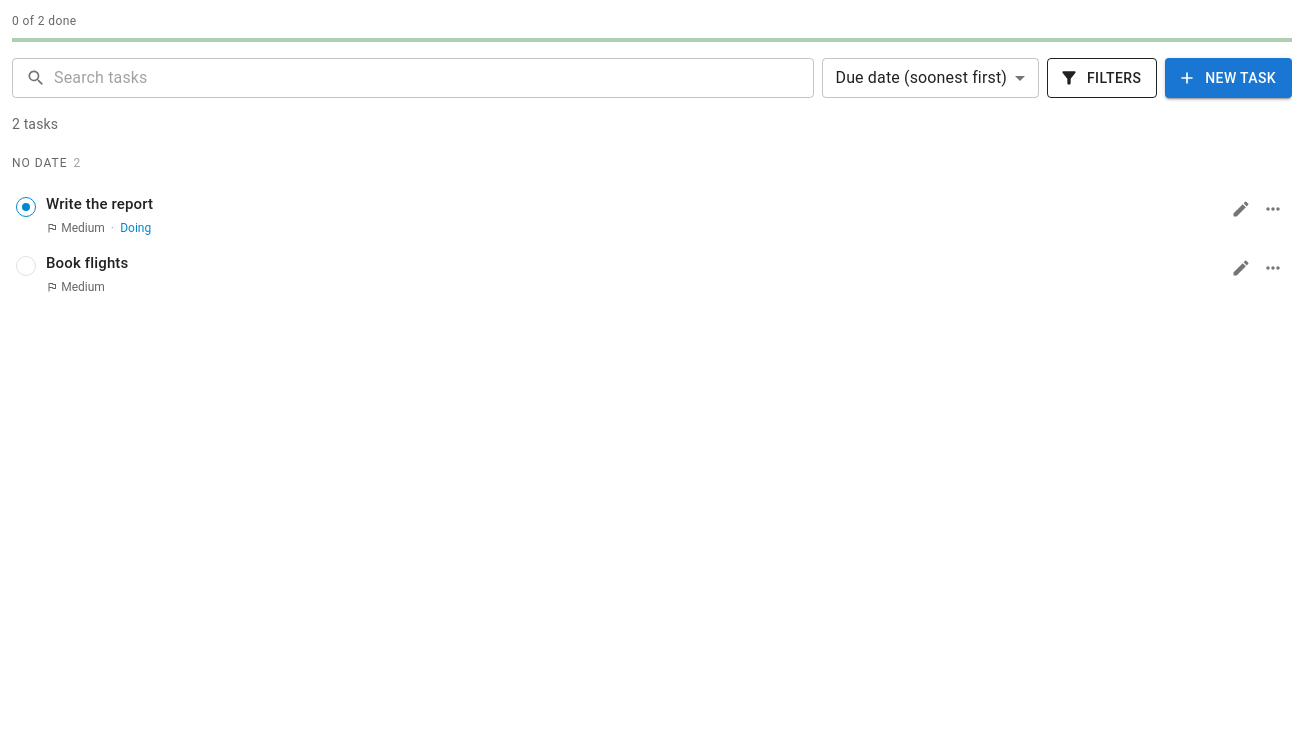
Test case: TaskDashboard › filters by status from the filter panel
What coordinates should you click on to do the following:
click the button "Filters"
I would click on:
 (1102, 78)
Its box is [1047, 58, 1157, 98].
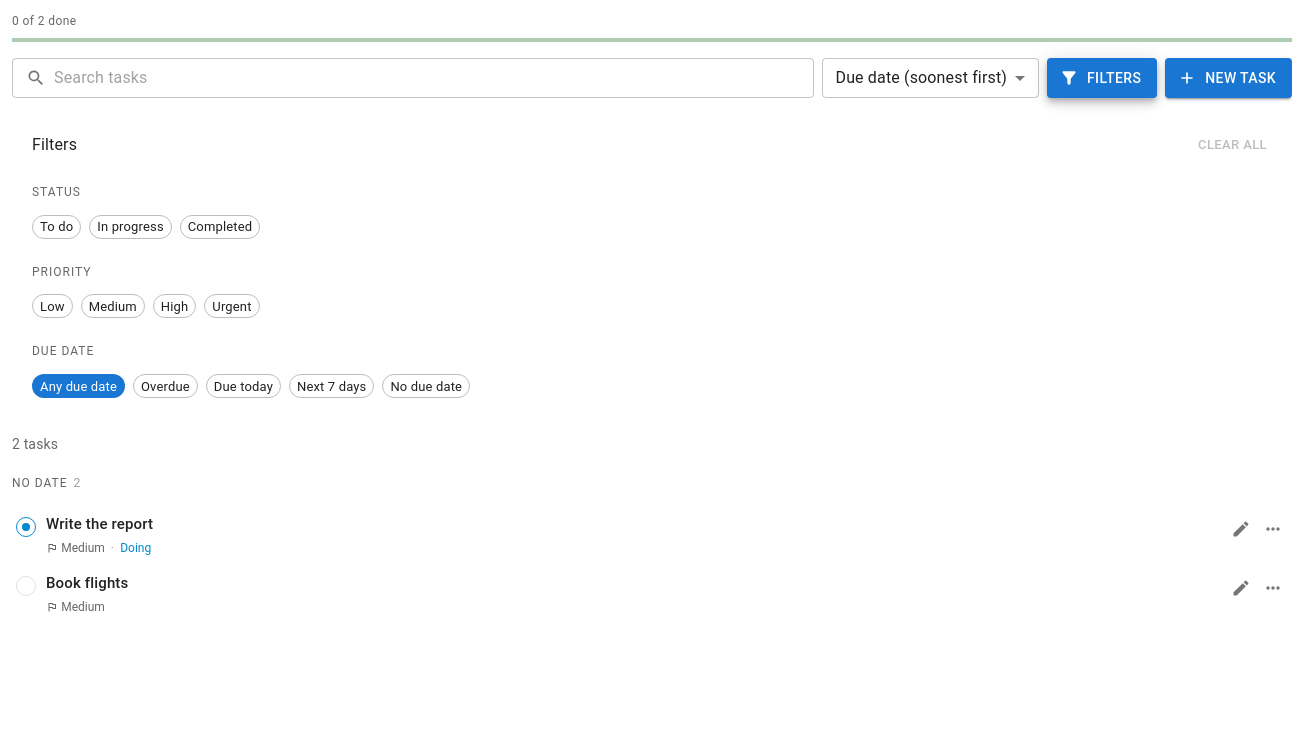
What coordinates should you click on to do the following:
click the button "In progress"
I would click on:
 (131, 227)
Its box is [89, 215, 172, 239].
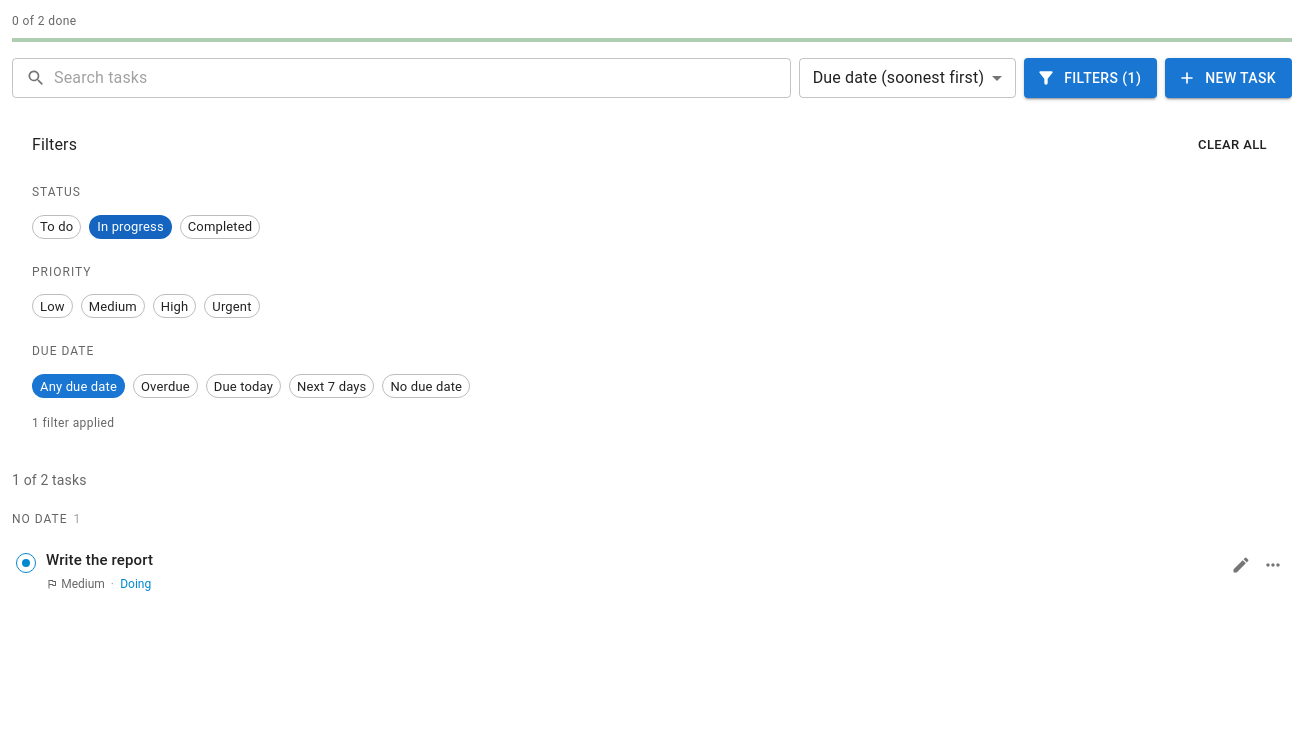
Expected: the text "Write the report" is shown, [46, 551, 153, 569]
Expected: the text "1 of 2 tasks" is shown, [12, 470, 87, 490]
Expected: the text "Book flights" is gone
